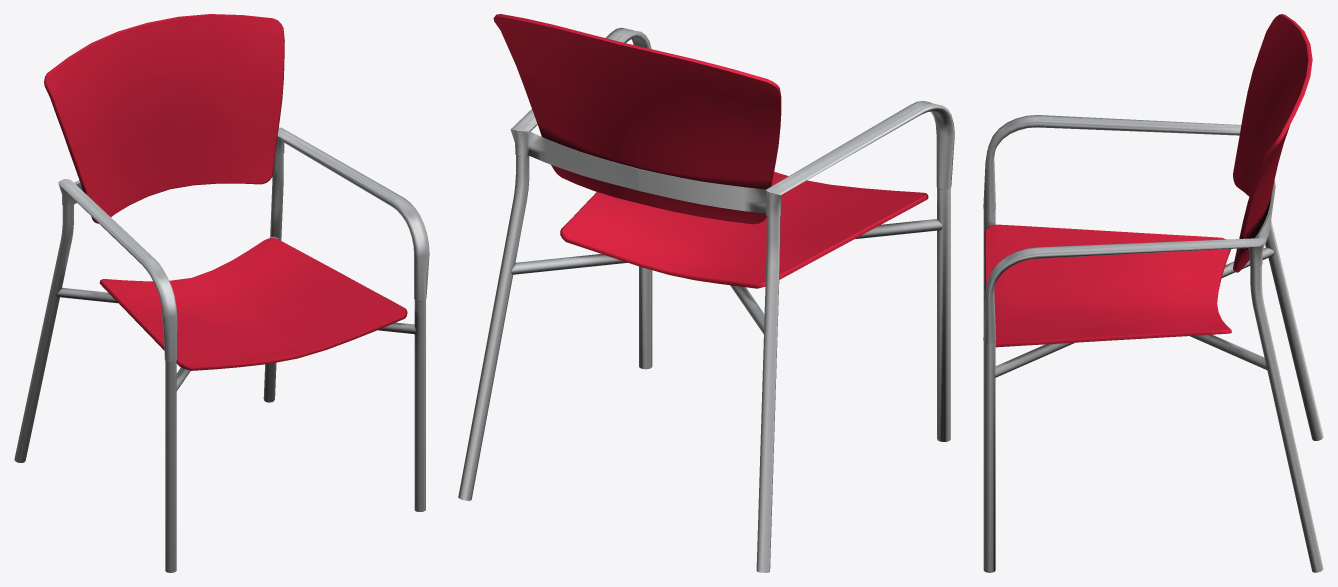
Rendered from eina_white_laquered_metal.glb.
3 renders of one model, left to right at view 1: azimuth 30°, elevation 25°; view 2: azimuth 150°, elevation 25°; view 3: azimuth 270°, elevation 25°, orthographic. The views are drawn at different scales.
Parts seen in each view (by area): view 1: eina-red; view 2: eina-red; view 3: eina-red.
Part boxes in pixels (box(x1,y1,x2,y2)): eina-red: box(14, 14, 429, 572); eina-red: box(458, 14, 954, 572); eina-red: box(983, 14, 1323, 572).
Bounding box in the file's own units: 0.5705 × 0.8406 × 0.581.
1 material, 1 textured.
